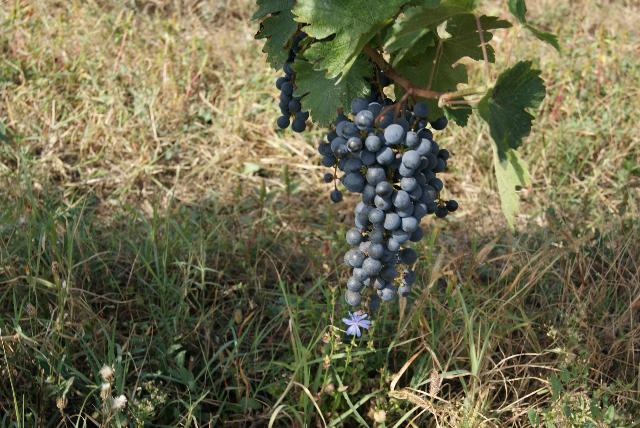grapes: (320, 75, 446, 310)
